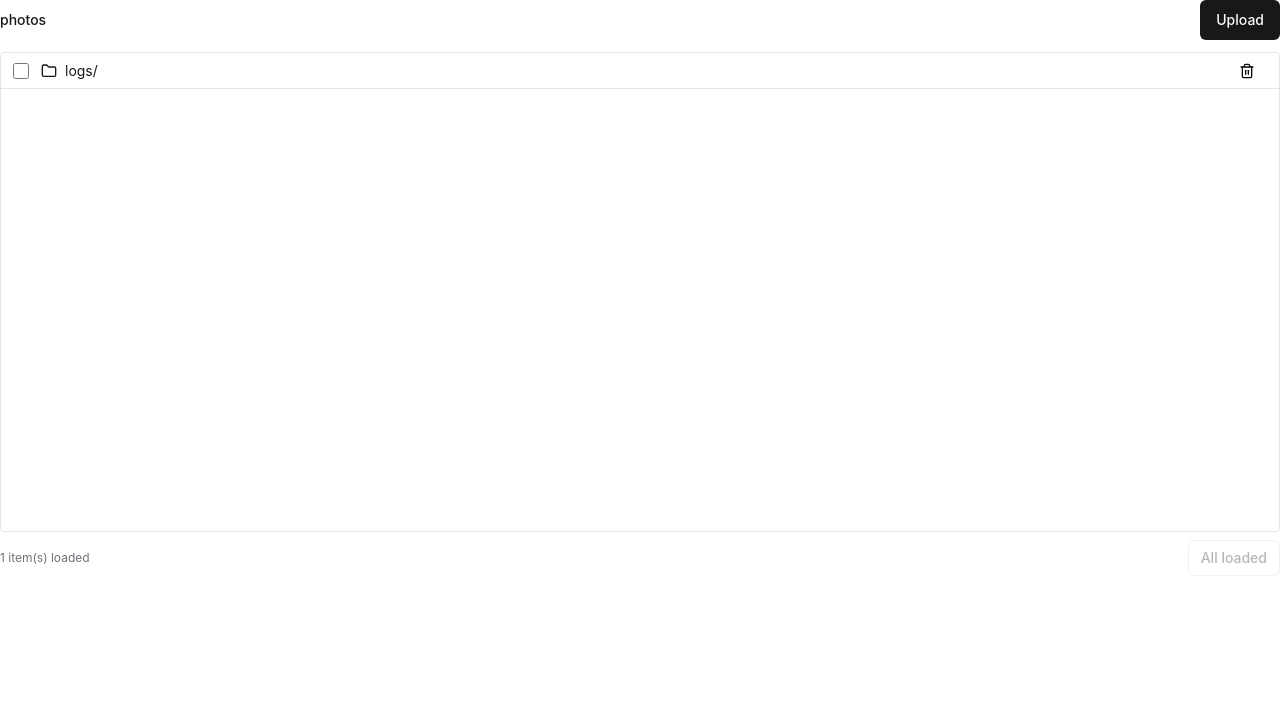
ObjectBrowserPage bulk delete › opens the dialog from a folder row trash button
The width and height of the screenshot is (1280, 720).
Click the button named "delete folder logs": click(1247, 70) [1227, 52, 1267, 88]
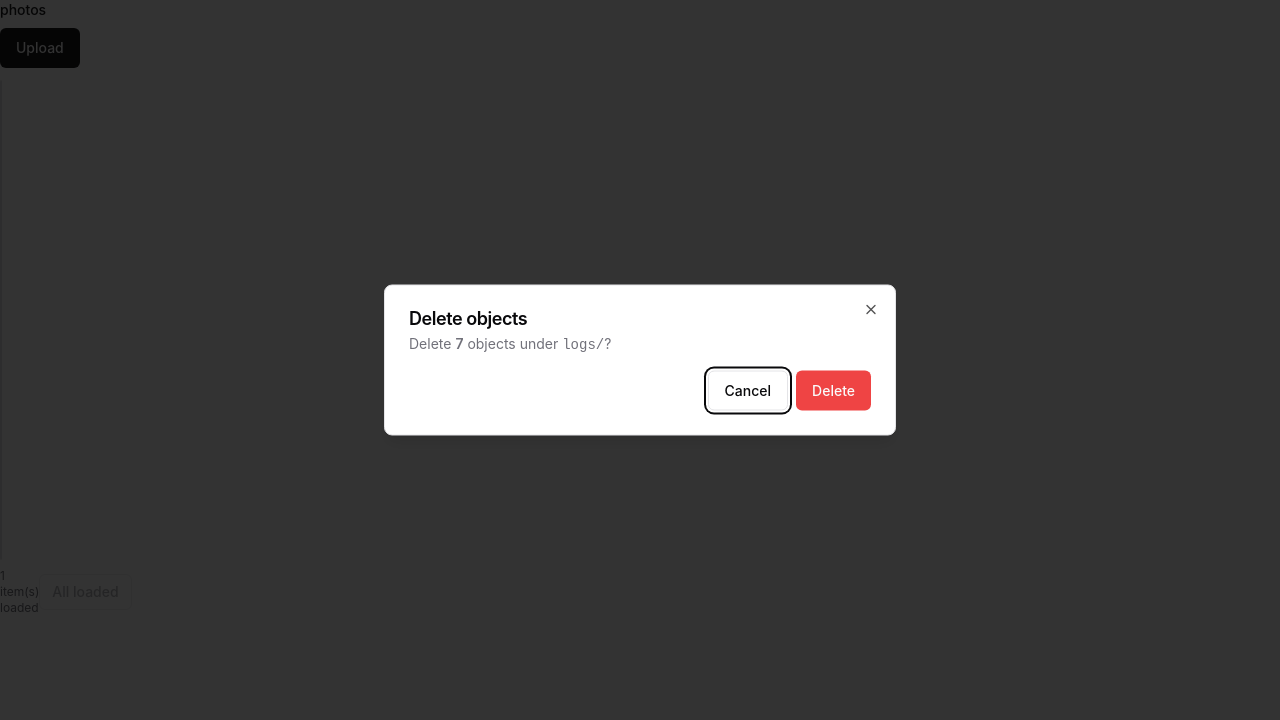
Check: the text "7" is shown, box [455, 334, 464, 352]
